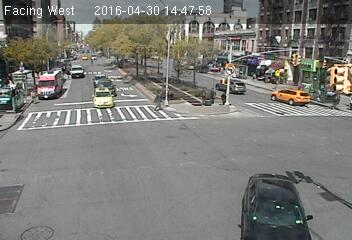neg: (165, 41, 180, 62), (257, 100, 272, 120), (104, 95, 115, 111), (154, 46, 159, 52)
